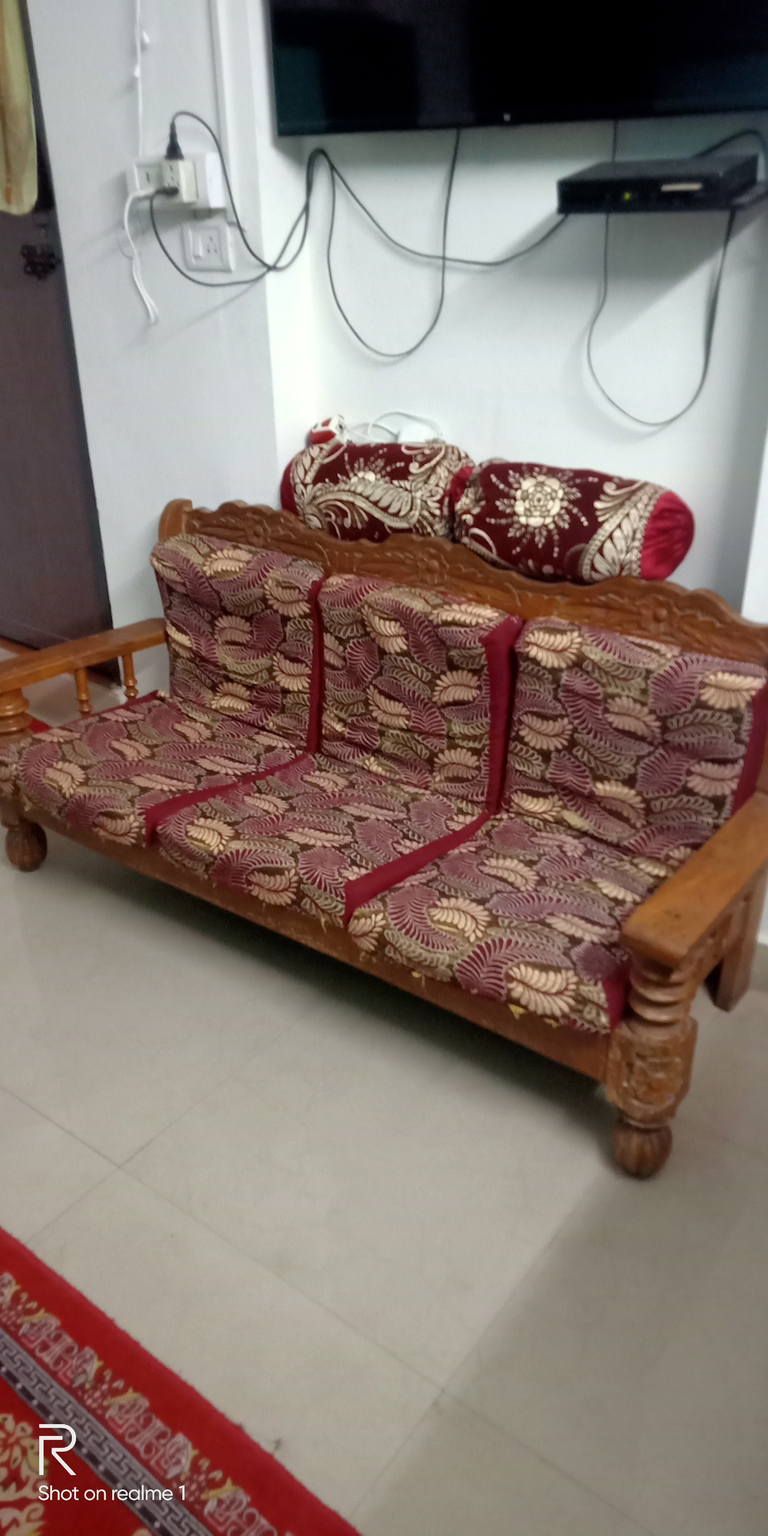sofa: (0, 498, 768, 1177)
